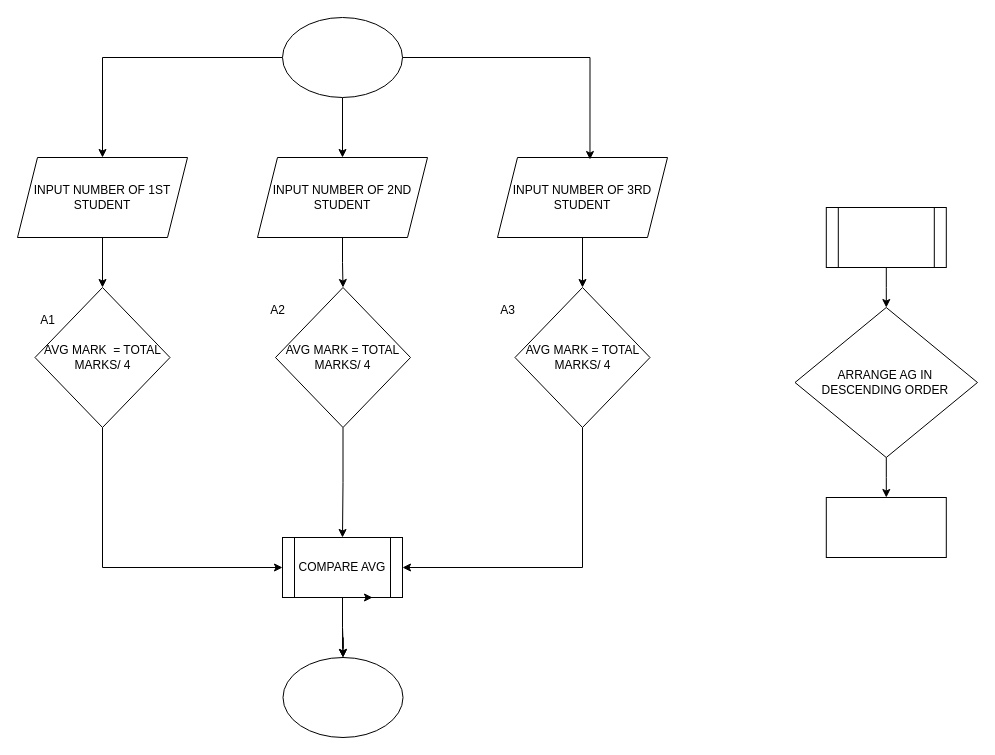
Image size: 995x755. Some labels were removed from this diagram. Each missing label, with the centre of its shape:
"COMPARE" goes at (885,237).
"END" goes at (342,697).
"PRINT NAME AND RANK ACCORDING TO DESCENDING ORDER" goes at (885,527).
"START" goes at (342,57).
